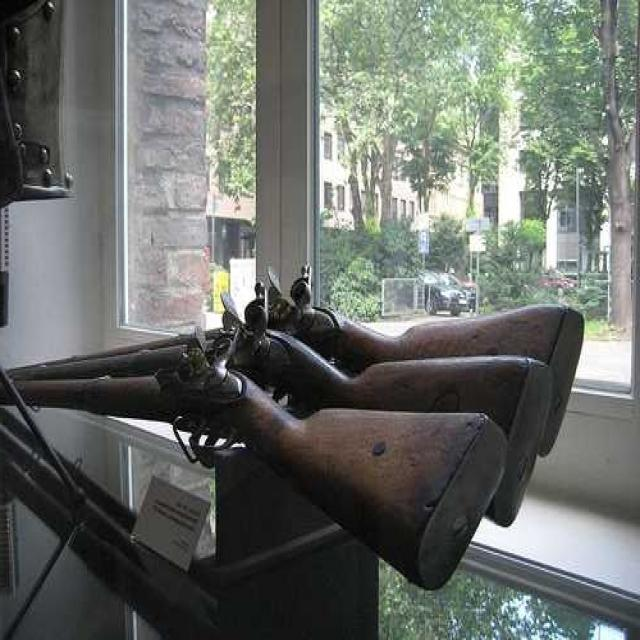heavyweapon: (1, 351, 489, 566)
